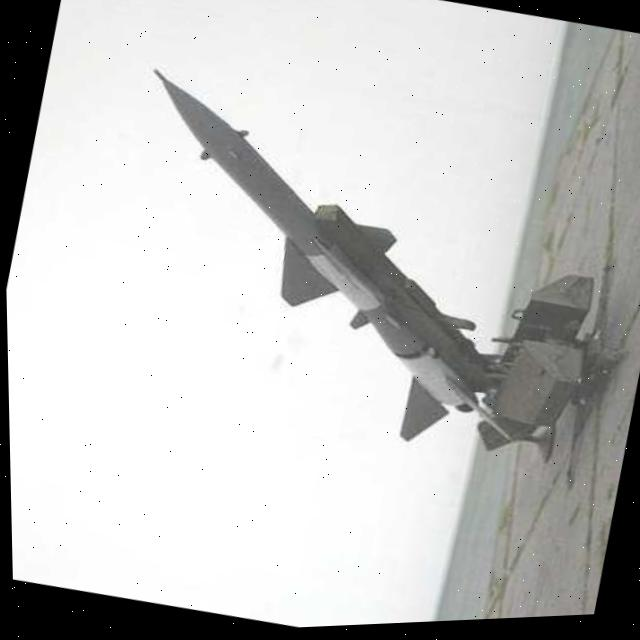missile: (81, 47, 583, 471)
